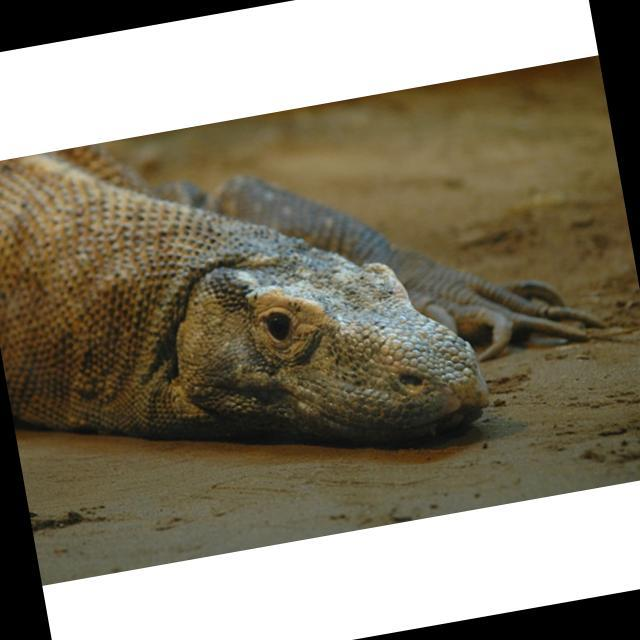KomodoDragon: (0, 61, 621, 512)
